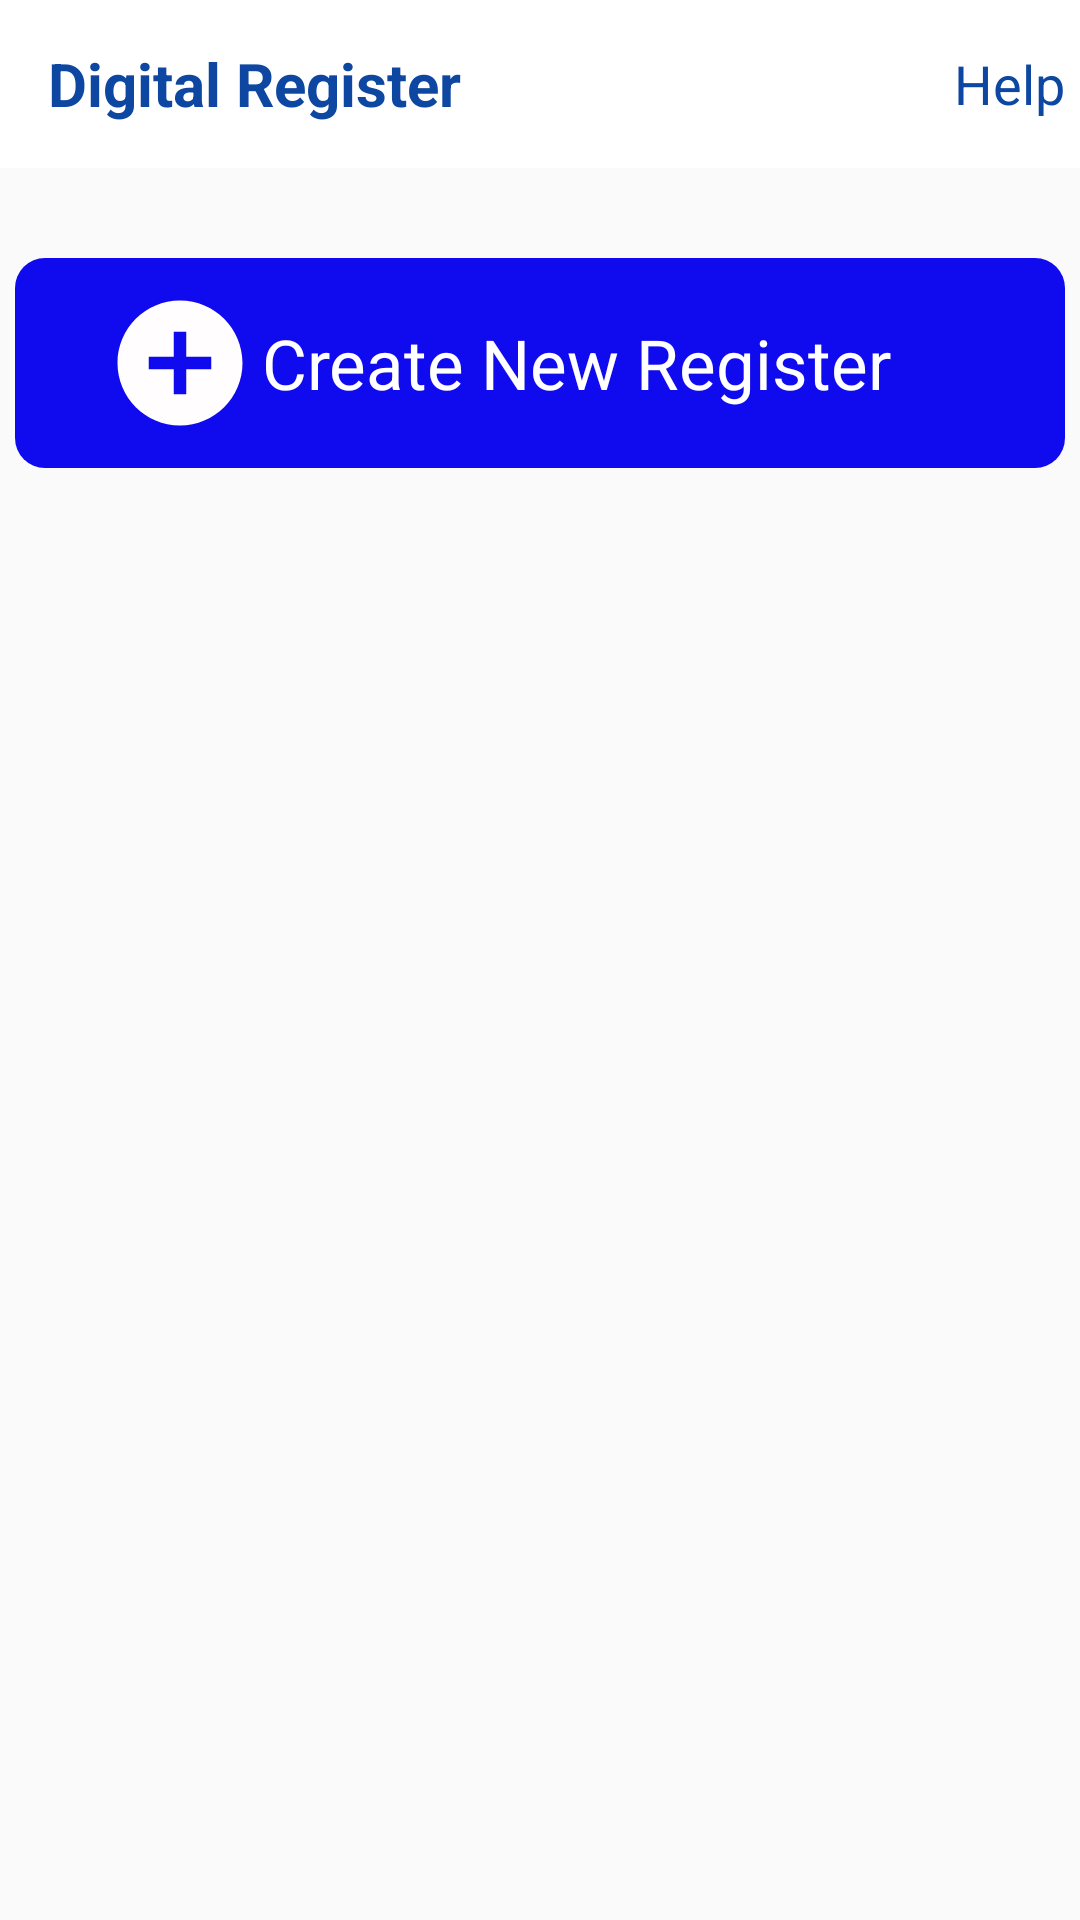

Icon click points for this 1080 x 1920 phone screenshot, format point (x, y):
add circle: point (180, 363)
